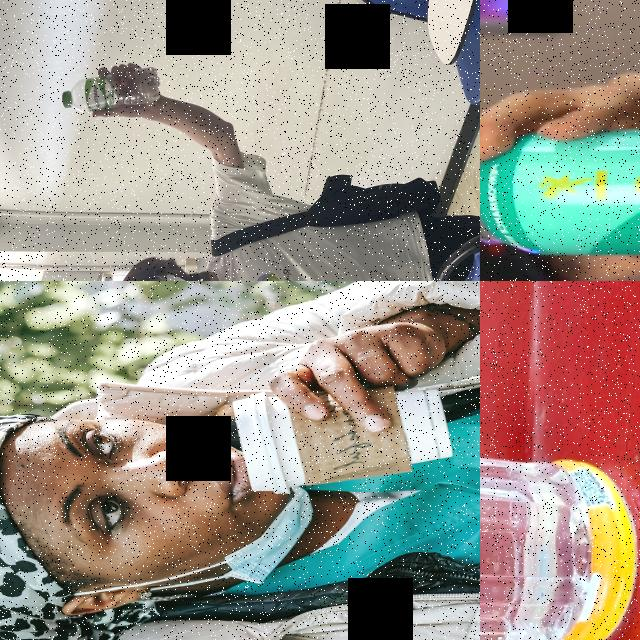bottle: (480, 426, 632, 640), (61, 64, 162, 114)
can: (480, 120, 640, 256)
cup: (229, 386, 452, 496)
